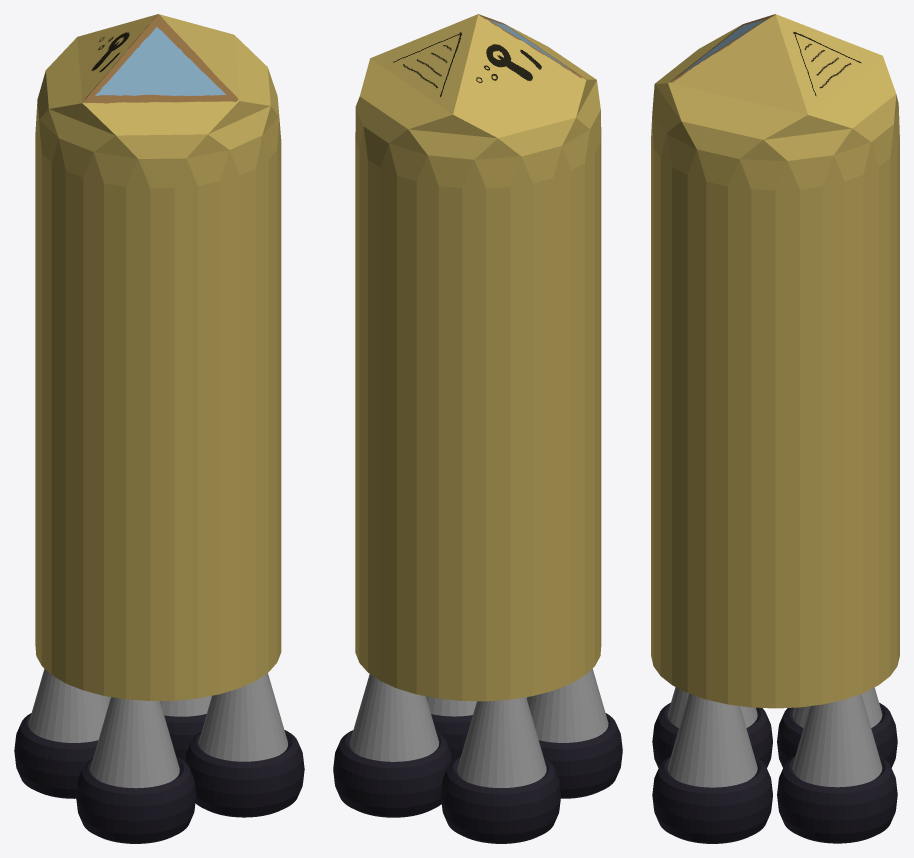
The model's file is Rocket.glb.
3 renders of one model, left to right at view 1: azimuth 30°, elevation 25°; view 2: azimuth 150°, elevation 25°; view 3: azimuth 270°, elevation 25°, orthographic.
Parts seen in each view (by area): view 1: Cylinder; view 2: Cylinder; view 3: Cylinder.
Boxes of the visible parts, x1,y1,x2,y2 form: Cylinder: [14, 14, 304, 843]; Cylinder: [333, 14, 622, 843]; Cylinder: [651, 14, 899, 843].
Bounding box in the file's own units: 2.01 × 6.94 × 2.
Materials: 9 (1 with a texture image).
